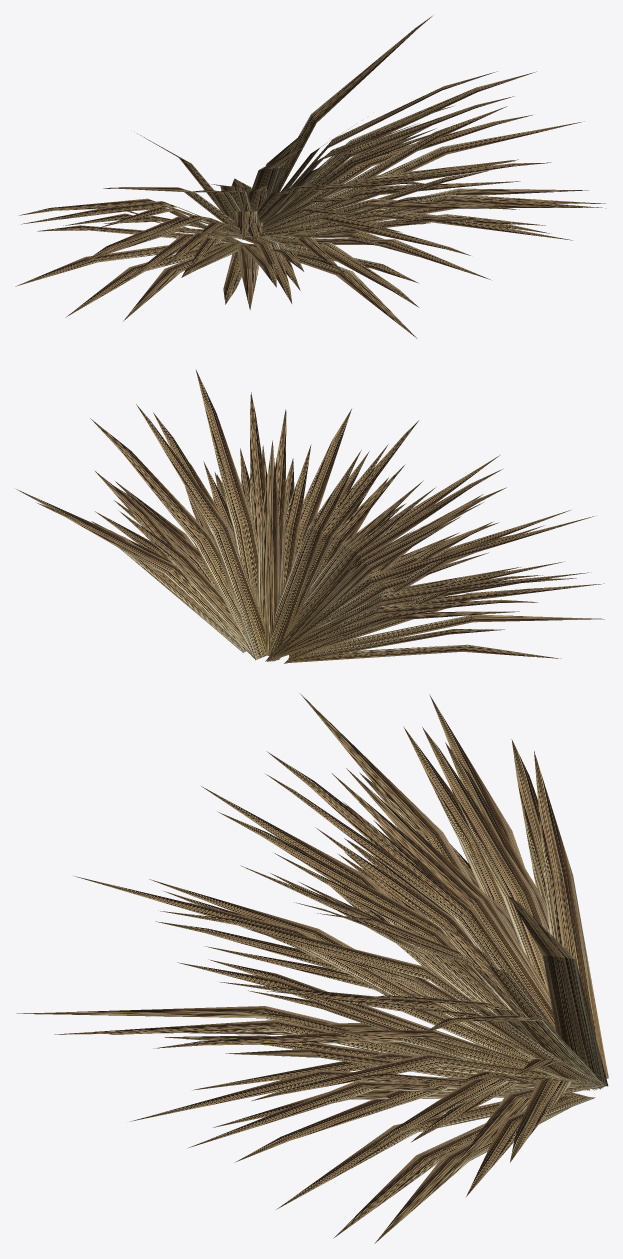
The model's file is Grass_dry.fbx.
The picture shows the model from 3 angles, top to bottom: view 1: azimuth 30°, elevation 25°; view 2: azimuth 150°, elevation 25°; view 3: azimuth 270°, elevation 25°; orthographic projection. The views are drawn at different scales.
Visible parts, largest first — view 1: Object; view 2: Object; view 3: Object.
Boxes of the visible parts, x1=… form: Object: x1=15, y1=16, x2=605, y2=338; Object: x1=16, y1=369, x2=604, y2=663; Object: x1=16, y1=693, x2=608, y2=1243.
Bounding box in the file's own units: 1.75 × 0.5801 × 1.02.
Materials: 1 (1 with a texture image).
